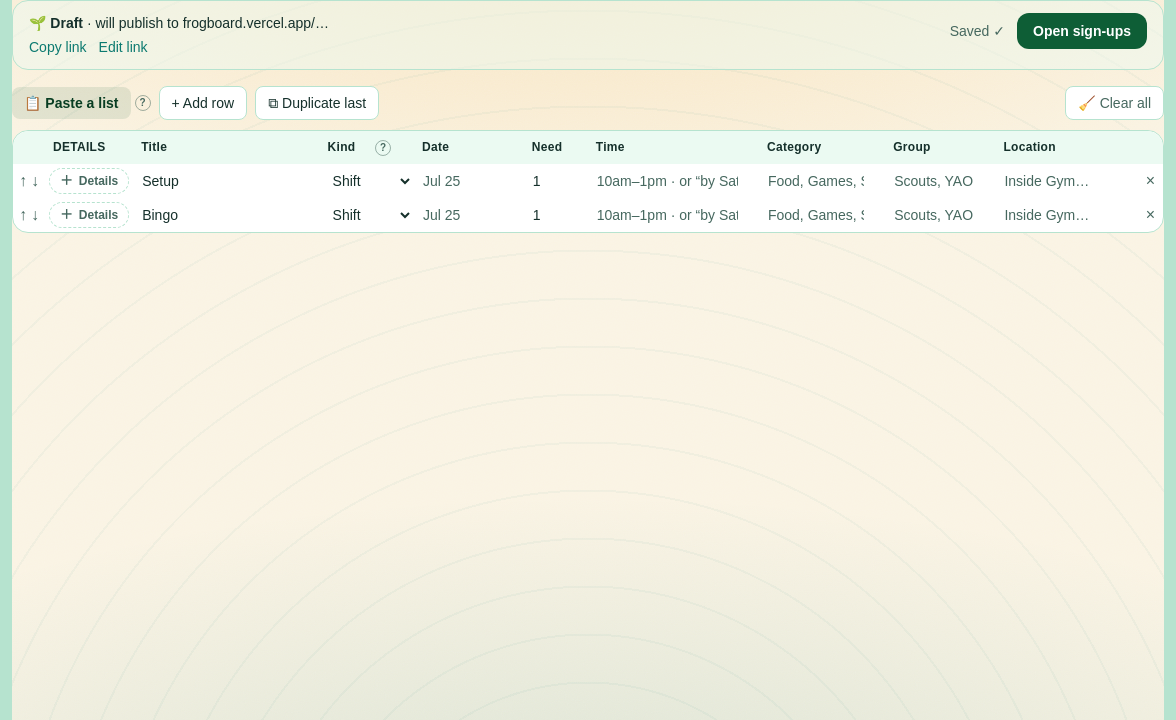
reorder buttons disable while sorted
The image size is (1176, 720).
Click the button with aria-label "sort by title".
click(162, 147)  # box [141,139,183,155]
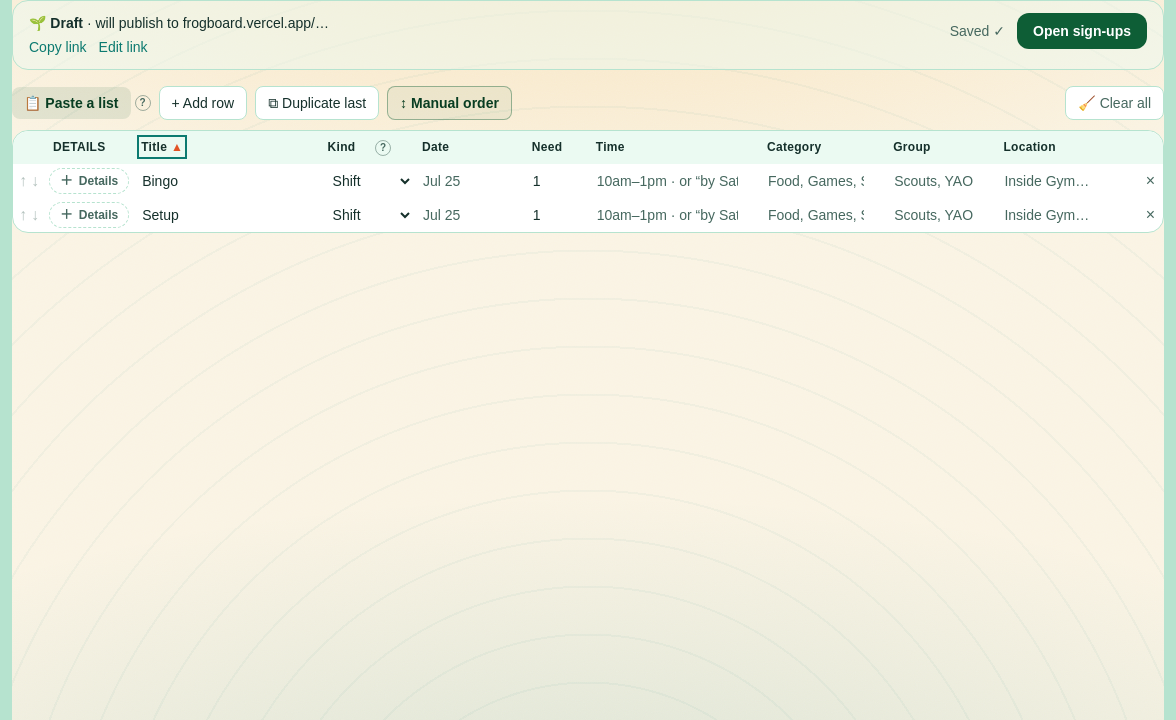
Expected: the button named "move up" is disabled, [17,167,29,195]
